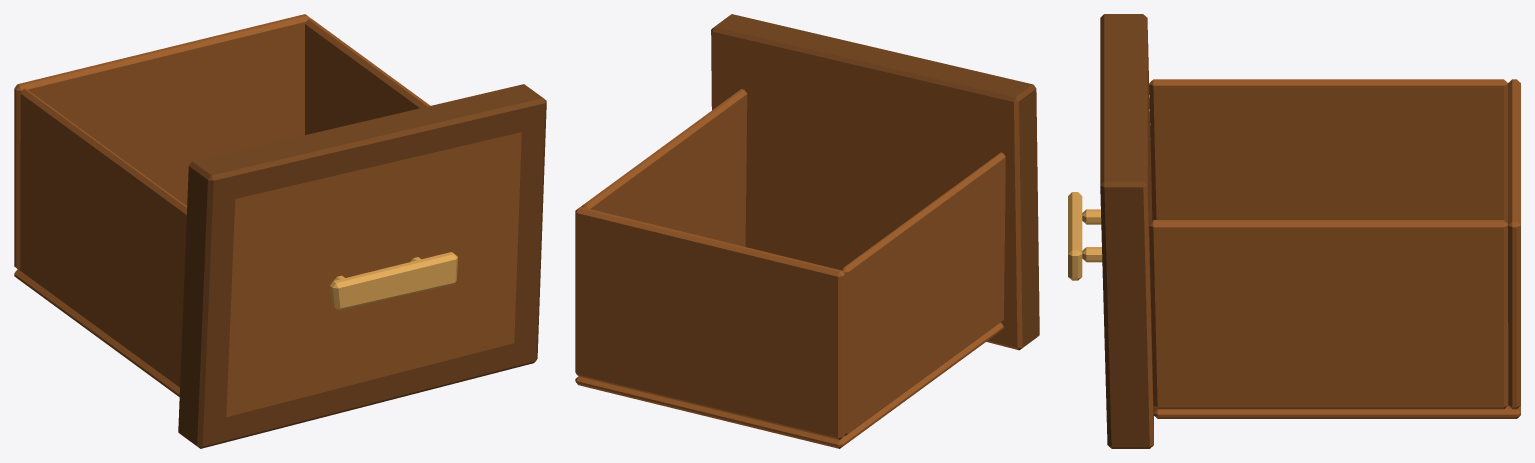
File: Rack_3.fbx
The picture shows the model from 3 angles, left to right: view 1: azimuth 30°, elevation 25°; view 2: azimuth 150°, elevation 25°; view 3: azimuth 270°, elevation 25°; orthographic projection. The views are drawn at different scales.
Parts seen in each view (by area): view 1: Rack_3; view 2: Rack_3; view 3: Rack_3.
Boxes of the visible parts, bbox=[...] form: Rack_3: bbox=[14, 14, 546, 448]; Rack_3: bbox=[575, 14, 1039, 448]; Rack_3: bbox=[1068, 14, 1520, 448].
Bounding box in the file's own units: 0.4121 × 0.3123 × 0.4606.
